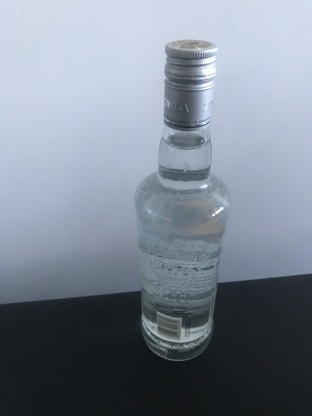nakretka: (161, 36, 219, 132)
